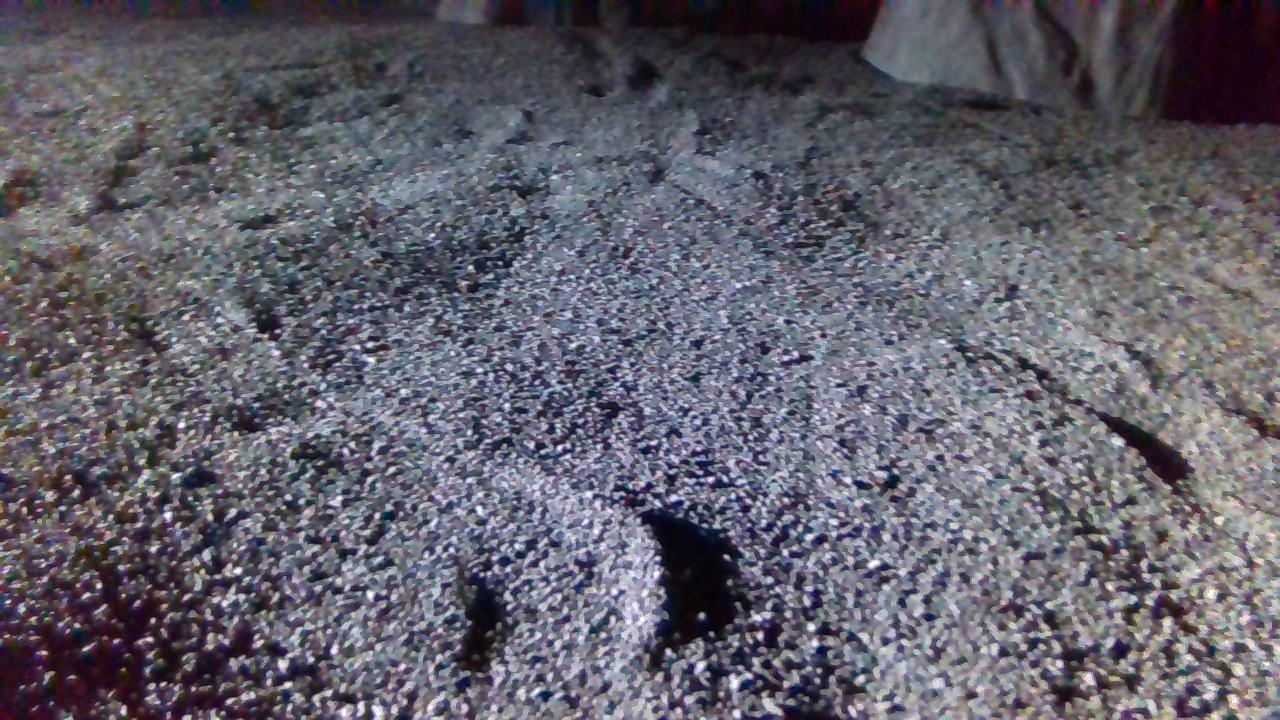rock: (863, 0, 1178, 116), (435, 0, 630, 27)
